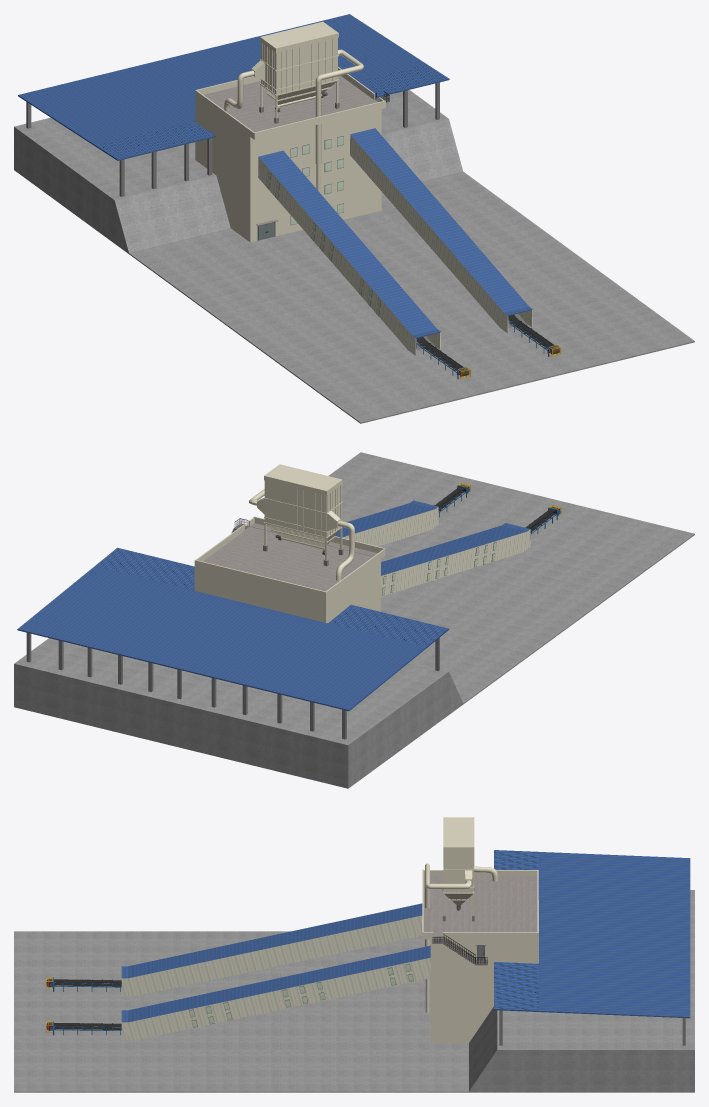
Rendered from 破碎间.gltf.
3 renders of one model, top to bottom at view 1: azimuth 30°, elevation 25°; view 2: azimuth 150°, elevation 25°; view 3: azimuth 270°, elevation 25°, orthographic.
Parts seen in each view (by area): view 1: PS-LB, PS-WQ, PS-SCQ, PS-jiaodaijitou-002, PS-jiaodaijitou-001; view 2: PS-LB, PS-WQ, PS-SCQ; view 3: PS-LB, PS-WQ, PS-SCQ, PS-jiaodaijitou-001, PS-jiaodaijitou-002.
Part boxes in pixels (x1=…): PS-LB: x1=14, y1=75, x2=694, y2=423; PS-WQ: x1=18, y1=14, x2=532, y2=355; PS-SCQ: x1=224, y1=21, x2=363, y2=192; PS-jiaodaijitou-002: x1=416, y1=337, x2=470, y2=379; PS-jiaodaijitou-001: x1=508, y1=314, x2=561, y2=356; PS-LB: x1=14, y1=452, x2=694, y2=788; PS-WQ: x1=17, y1=500, x2=530, y2=739; PS-SCQ: x1=249, y1=464, x2=354, y2=580; PS-LB: x1=14, y1=876, x2=694, y2=1092; PS-WQ: x1=121, y1=850, x2=690, y2=1045; PS-SCQ: x1=425, y1=817, x2=497, y2=1012; PS-jiaodaijitou-001: x1=46, y1=1020, x2=121, y2=1035; PS-jiaodaijitou-002: x1=46, y1=977, x2=121, y2=991.
Size of the model in its own units: 58.04 by 34.59 by 104.
46 materials, 13 textured.
